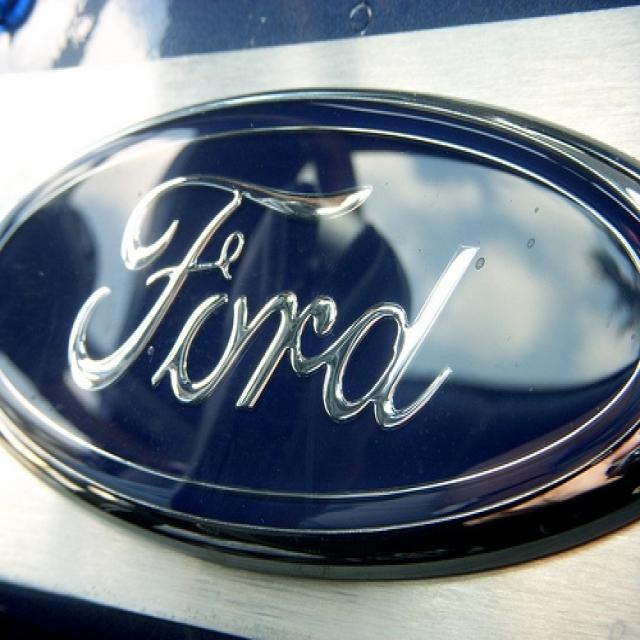ford: (2, 81, 640, 566)
